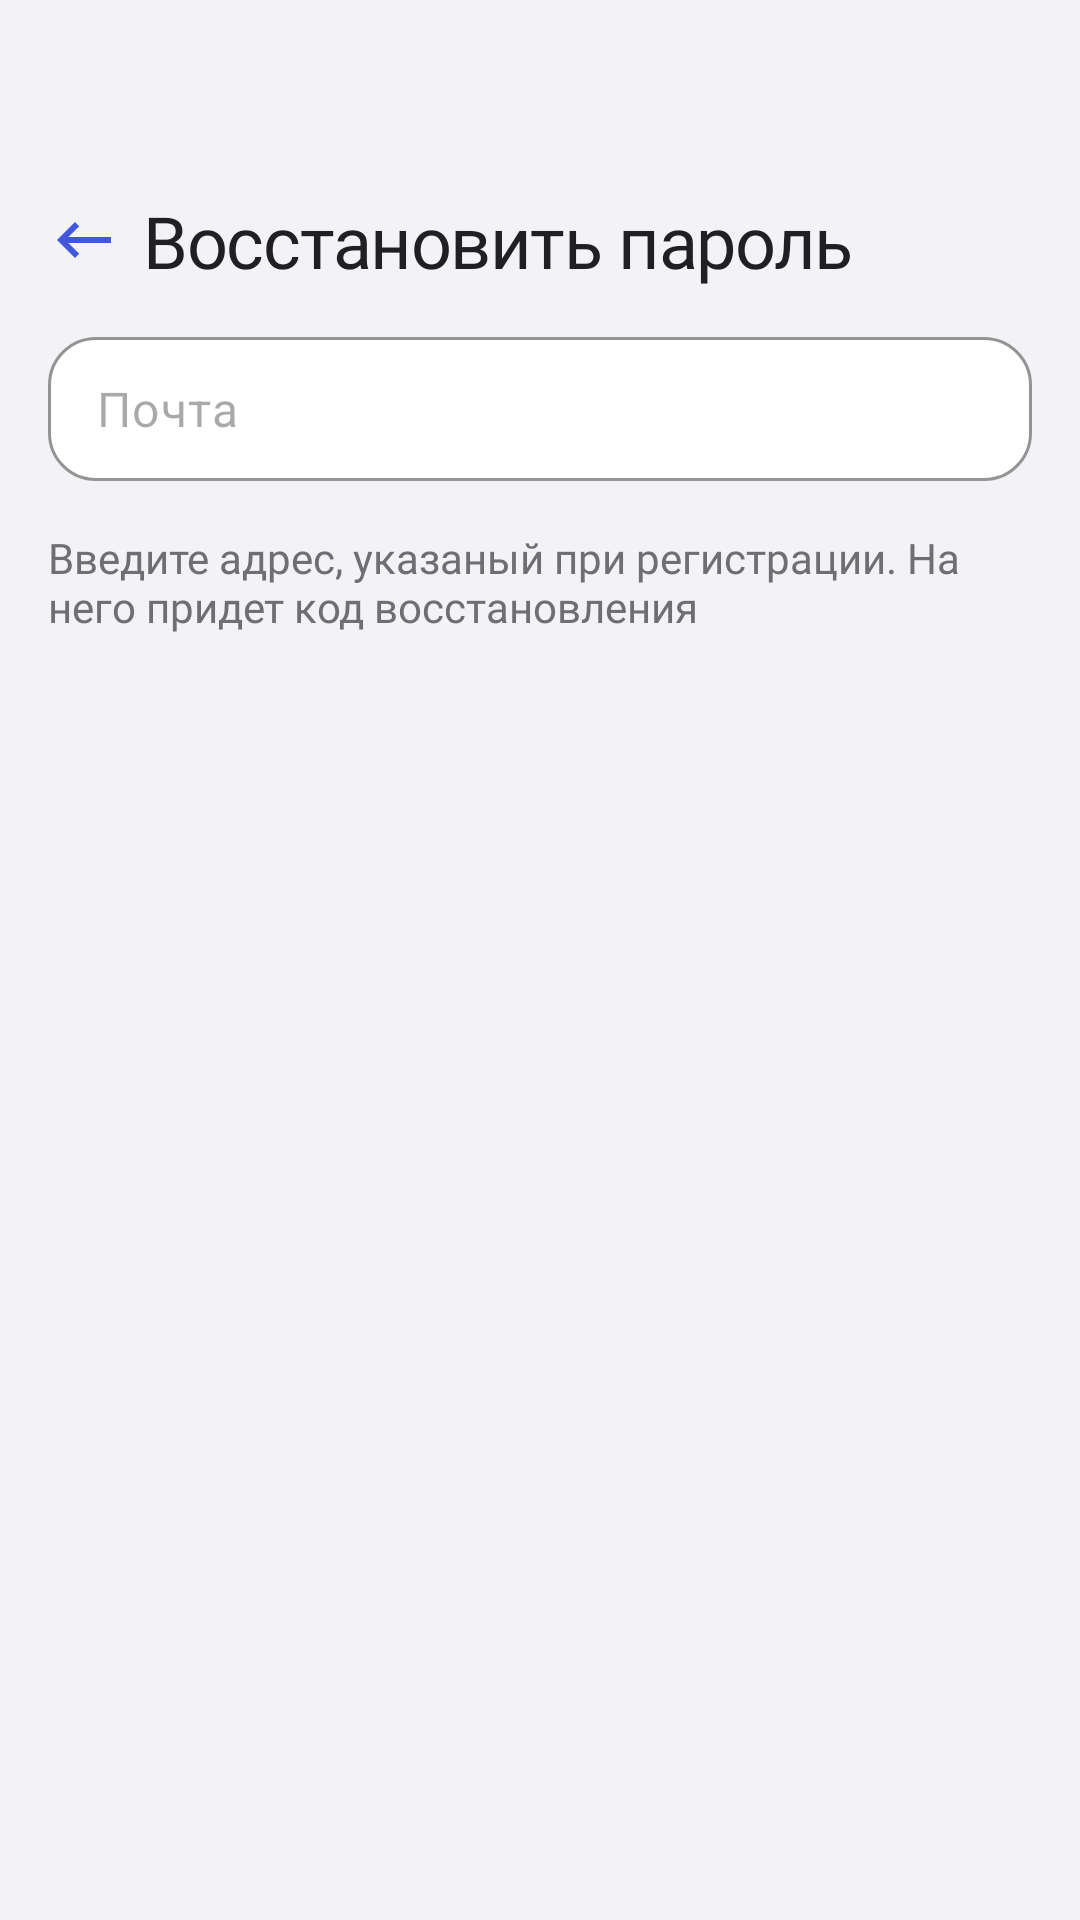

Icon click points for this 1080 × 1920 phone screenshot, format (x,y):
arrows back: (84,240)
